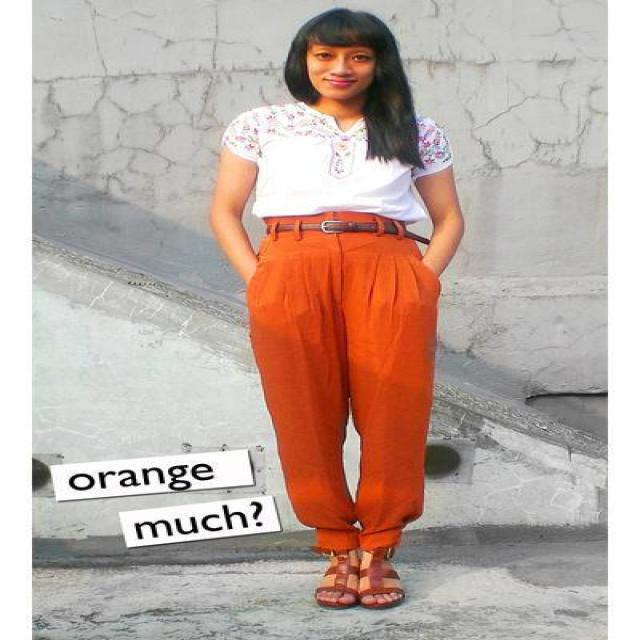pants: (246, 232, 440, 561)
shirt: (221, 102, 435, 216)
shoe: (314, 550, 404, 609)
